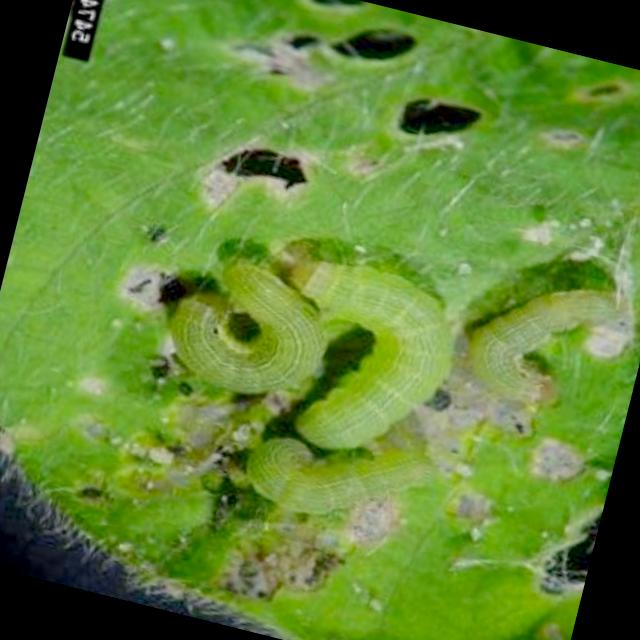Beet armyworm: (237, 218, 481, 489), (118, 230, 342, 440), (231, 400, 462, 584), (444, 233, 640, 437)
